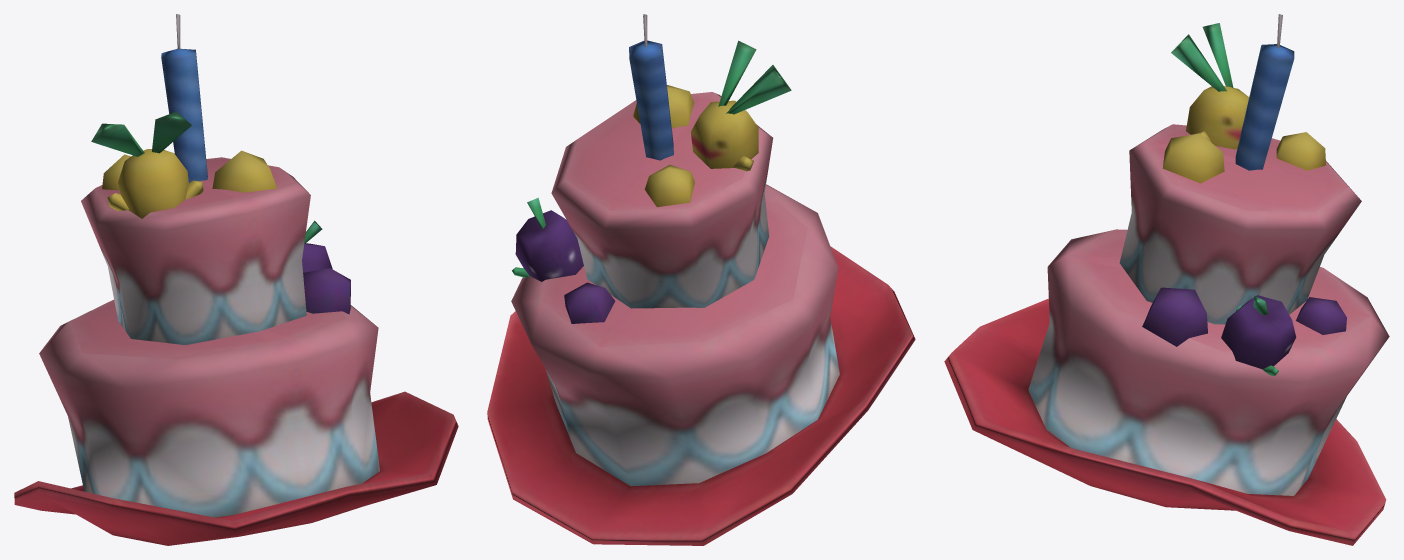
The model's file is cakeHat.glb.
The picture shows the model from 3 angles, left to right: view 1: azimuth 30°, elevation 25°; view 2: azimuth 150°, elevation 25°; view 3: azimuth 270°, elevation 25°; orthographic projection. The views are drawn at different scales.
Parts seen in each view (by area): view 1: cakeHat; view 2: cakeHat; view 3: cakeHat.
Part boxes in pixels (x1,y1,x2,y2): cakeHat: (14, 14, 458, 545); cakeHat: (487, 14, 915, 545); cakeHat: (944, 14, 1389, 545).
Bounding box in the file's own units: 0.4348 × 0.5718 × 0.4663.
Materials: 1 (1 with a texture image).
